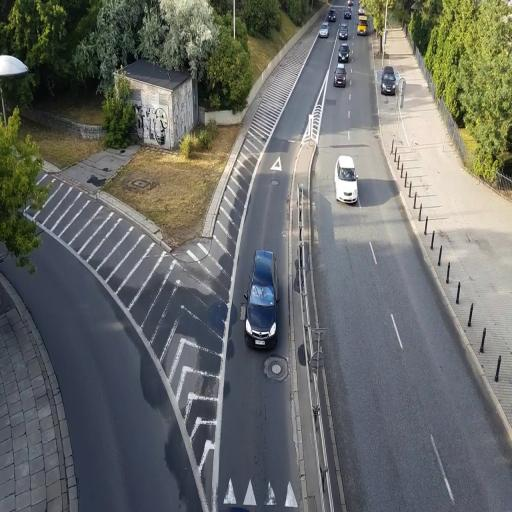vehicle: (243, 249, 278, 350), (334, 155, 360, 205), (380, 67, 398, 96), (334, 62, 348, 89), (338, 24, 349, 41), (318, 23, 330, 38)
